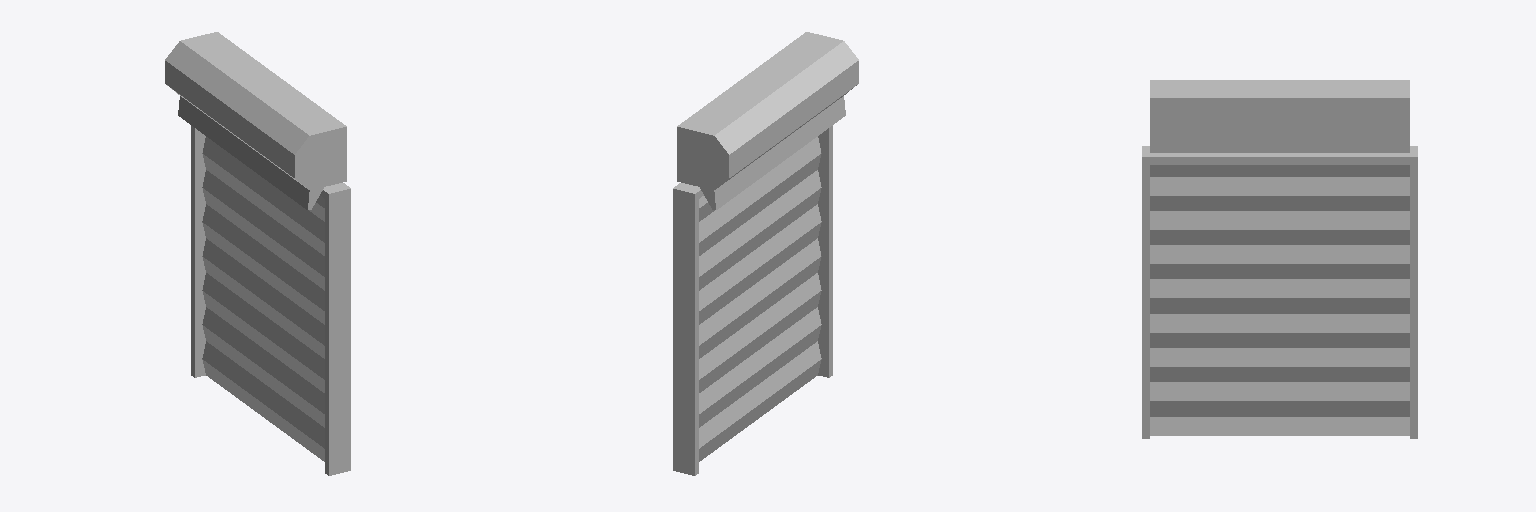
Rendered from Props_ClosedGarage_geo.obj.
The picture shows the model from 3 angles: view 1: azimuth 30°, elevation 25°; view 2: azimuth 150°, elevation 25°; view 3: azimuth 270°, elevation 25°; orthographic projection.
Visible parts, largest first — view 1: pCube126, pCube127; view 2: pCube126, pCube127; view 3: pCube126, pCube127.
Part boxes in pixels (x1,y1,x2,y2): pCube126: (191, 126, 350, 475); pCube127: (165, 32, 346, 209); pCube126: (673, 126, 832, 475); pCube127: (677, 32, 858, 209); pCube126: (1142, 146, 1417, 438); pCube127: (1150, 80, 1409, 152).
Size of the model in its own units: 0.7 by 4.35 by 3.2.